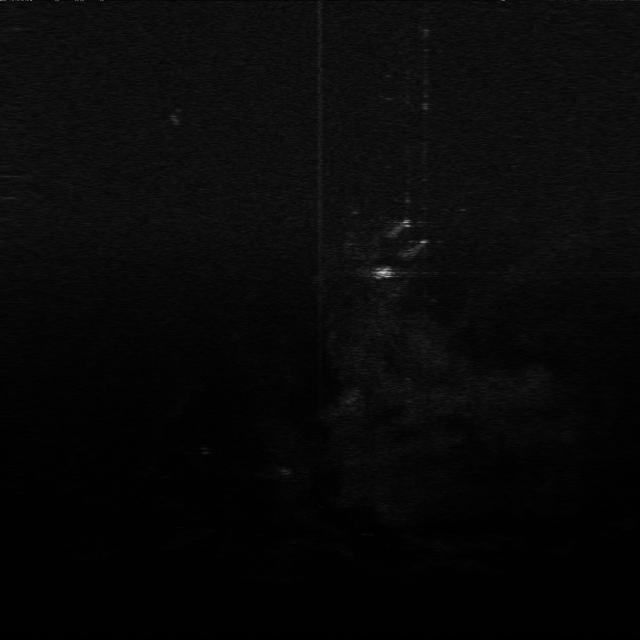rov: (370, 265, 400, 283)
